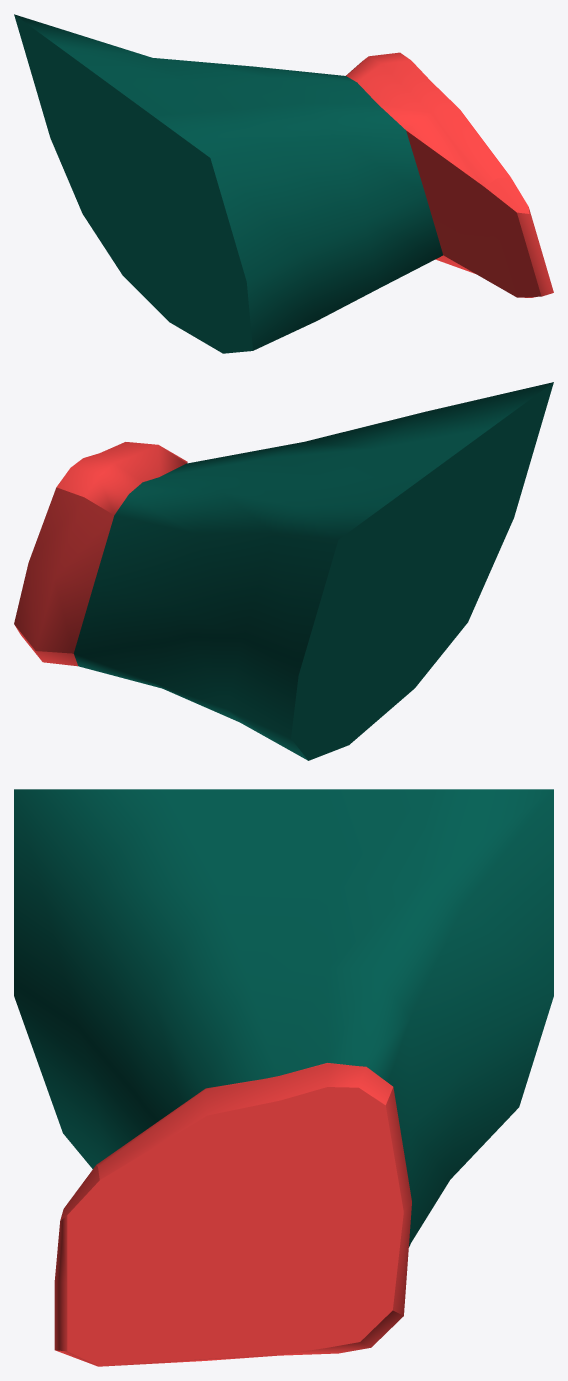
File: AXO_SAD_LEG_R.fbx
3 views of the same model, one above another, from view 1: azimuth 30°, elevation 25°; view 2: azimuth 150°, elevation 25°; view 3: azimuth 270°, elevation 25° (orthographic). The views are drawn at different scales.
Visible parts, largest first — view 1: AXO_SAD_LEG_R; view 2: AXO_SAD_LEG_R; view 3: AXO_SAD_LEG_R.
Part boxes in pixels (bbox=[...]): AXO_SAD_LEG_R: bbox=[14, 14, 553, 353]; AXO_SAD_LEG_R: bbox=[14, 382, 553, 760]; AXO_SAD_LEG_R: bbox=[14, 789, 553, 1366].
Size of the model in its own units: 3.55 by 2.47 by 3.32.
